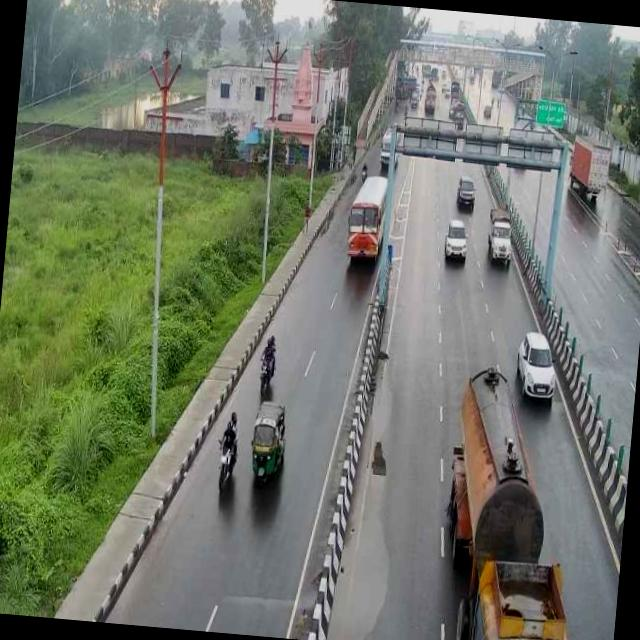car: (512, 326, 563, 406), (482, 203, 519, 270), (439, 210, 474, 270), (451, 172, 481, 214)
